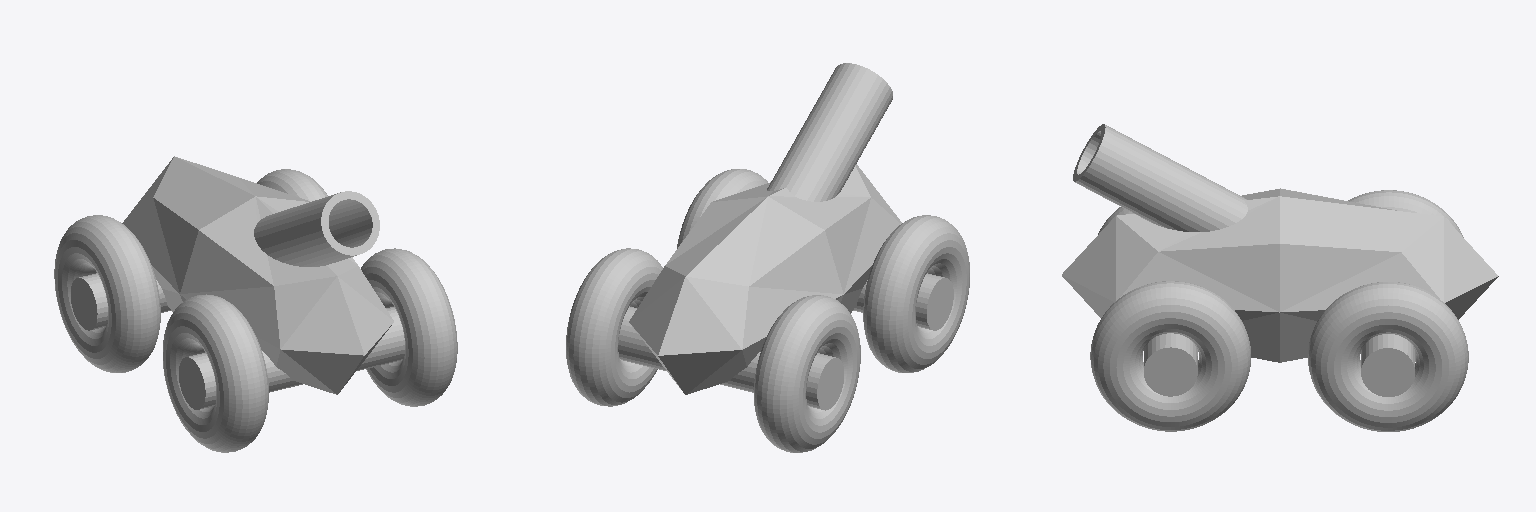
Rendered from UglyCarWithCannon.obj.
3 renders of one model, left to right at view 1: azimuth 30°, elevation 25°; view 2: azimuth 150°, elevation 25°; view 3: azimuth 270°, elevation 25°, orthographic.
Visible parts, largest first — view 1: Mesh; view 2: Mesh; view 3: Mesh.
Part boxes in pixels (bbox=[...]): Mesh: bbox=[54, 156, 457, 452]; Mesh: bbox=[566, 63, 969, 452]; Mesh: bbox=[1062, 124, 1498, 431].
Bounding box in the file's own units: 1 × 1.04 × 1.61.